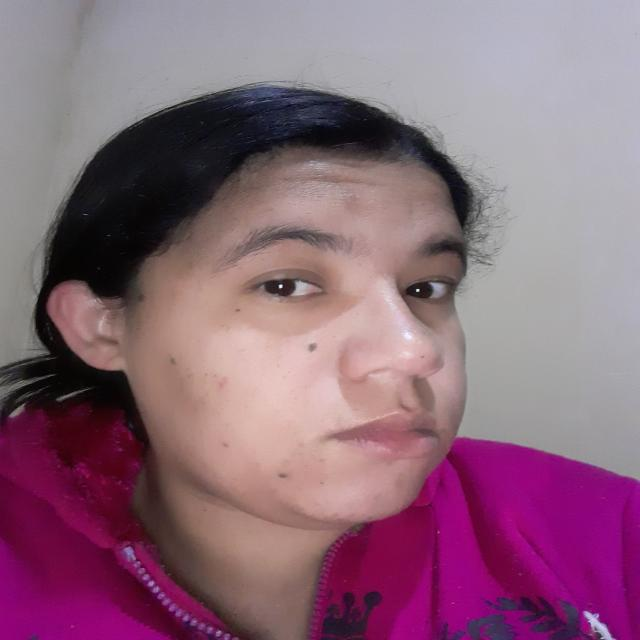Acne: (388, 323, 422, 349), (331, 506, 358, 524), (216, 371, 235, 392), (212, 438, 232, 449), (311, 454, 330, 465), (395, 469, 414, 480), (372, 492, 387, 502)
